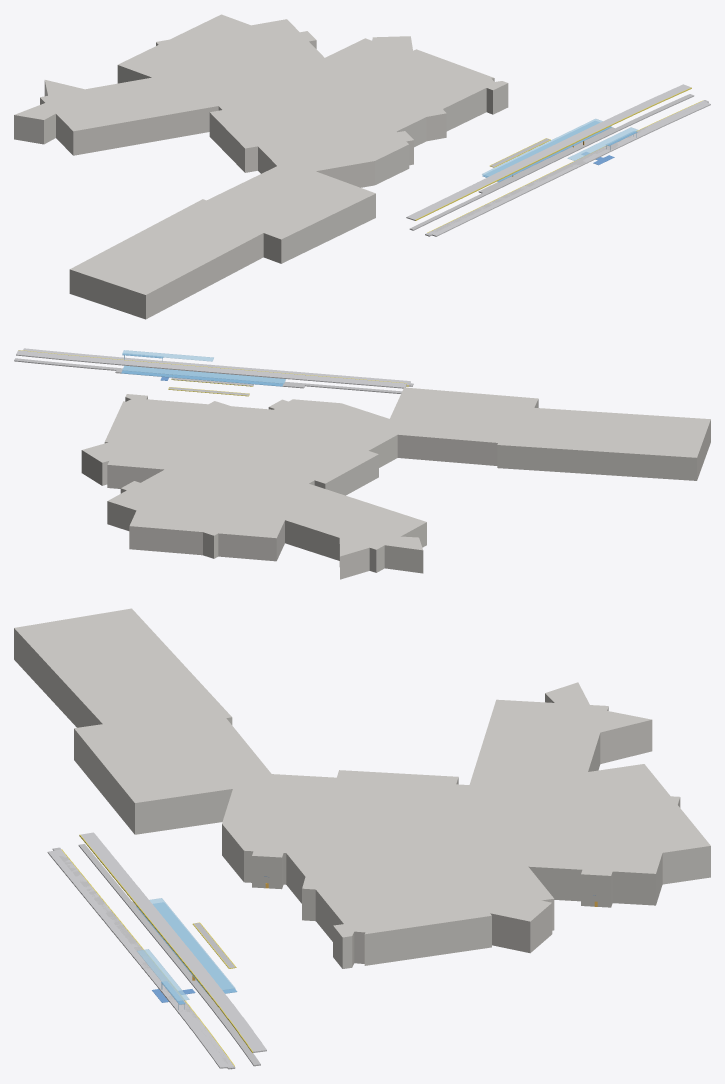
Rendered from 8516154-bern-bruennen-westside.glb.
The picture shows the model from 3 angles, top to bottom: view 1: azimuth 30°, elevation 25°; view 2: azimuth 150°, elevation 25°; view 3: azimuth 270°, elevation 25°; orthographic projection. The views are drawn at different scales.
Parts seen in each view (by area): view 1: building_part@x, platform_surface@0, platform_body@1, platform_body@0, roof@0, shelter@0, boarding_edge@1; view 2: building_part@x, platform_body@1, platform_surface@0, shelter@0, roof@0, platform_body@0; view 3: building_part@x, platform_body@1, platform_surface@0, platform_body@0, roof@0, shelter@0.
Boxes of the visible parts, box(x1,y1,x2,y2) form: building_part@x: box(14, 14, 508, 319); platform_surface@0: box(409, 94, 708, 236); platform_body@1: box(406, 84, 691, 220); platform_body@0: box(428, 100, 710, 236); roof@0: box(482, 118, 637, 180); shelter@0: box(482, 121, 637, 182); boarding_edge@1: box(415, 87, 691, 220); building_part@x: box(81, 387, 710, 579); platform_body@1: box(16, 350, 406, 388); platform_surface@0: box(14, 358, 413, 395); shelter@0: box(121, 353, 284, 386); roof@0: box(122, 350, 286, 383); platform_body@0: box(23, 348, 410, 385); building_part@x: box(14, 608, 710, 968); platform_body@1: box(80, 832, 266, 1052); platform_surface@0: box(52, 844, 260, 1069); platform_body@0: box(47, 849, 233, 1068); roof@0: box(137, 898, 235, 1001); shelter@0: box(136, 902, 237, 1009).
Bounding box in the file's own units: 406 × 18.62 × 279.
